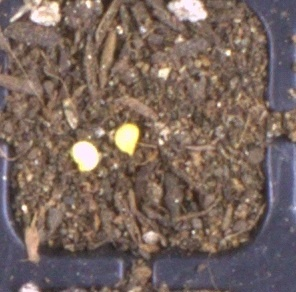chilli seed: (71, 140, 100, 172), (114, 123, 141, 156)
